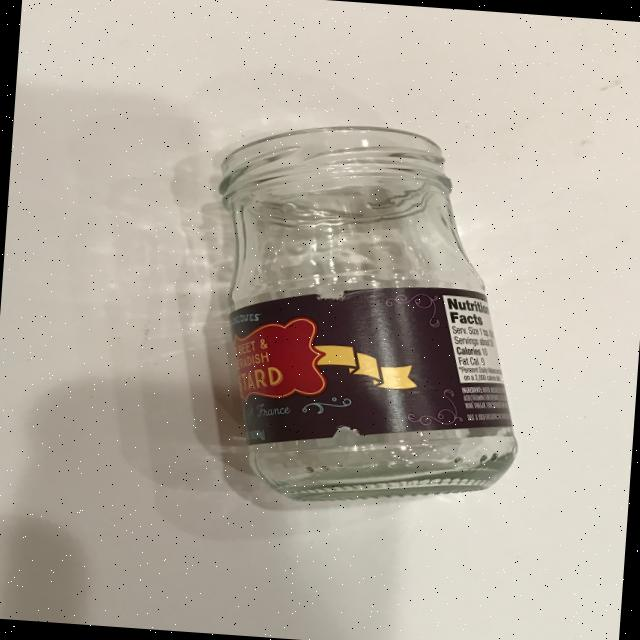glass: (194, 114, 540, 516)
